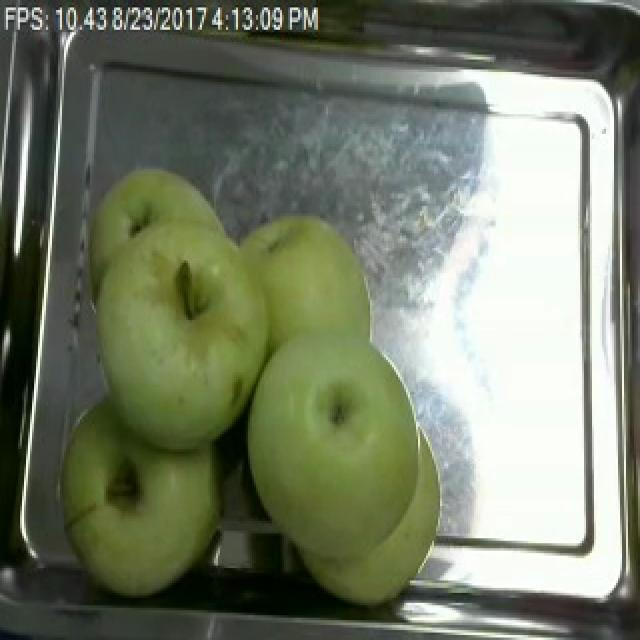50-_ripeness: (244, 333, 442, 549), (95, 208, 271, 416), (60, 381, 225, 593)
